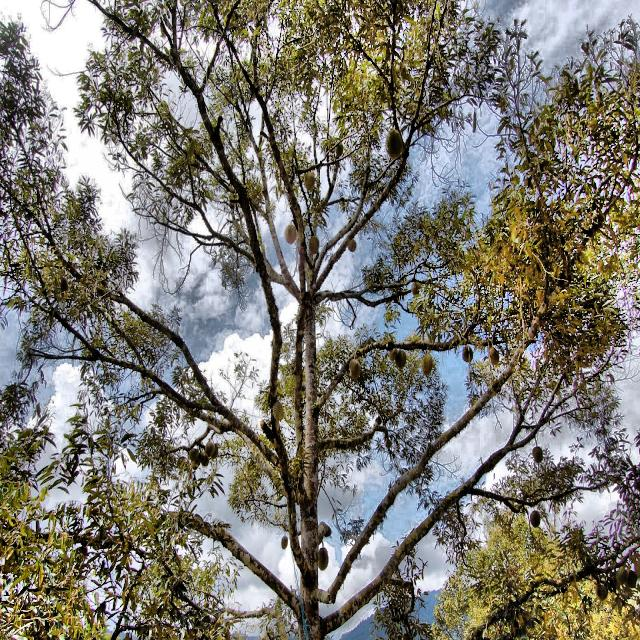arvore: (278, 269, 332, 640)
